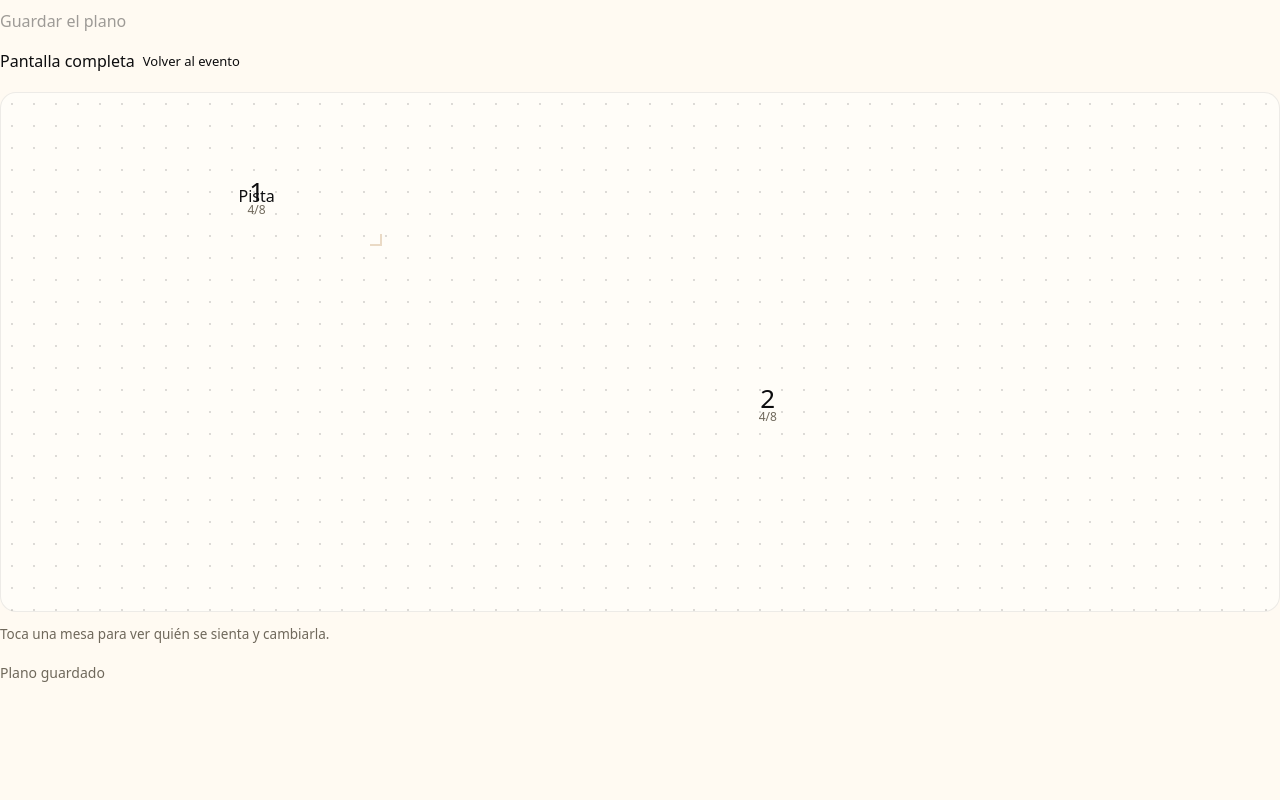
Test: FloorPlan › con cambios pendientes, salir de la vista abre el modal propio y no navega
Press the mouse on the button named "Mesa 01" at (257, 197), box [219,159,295,235]
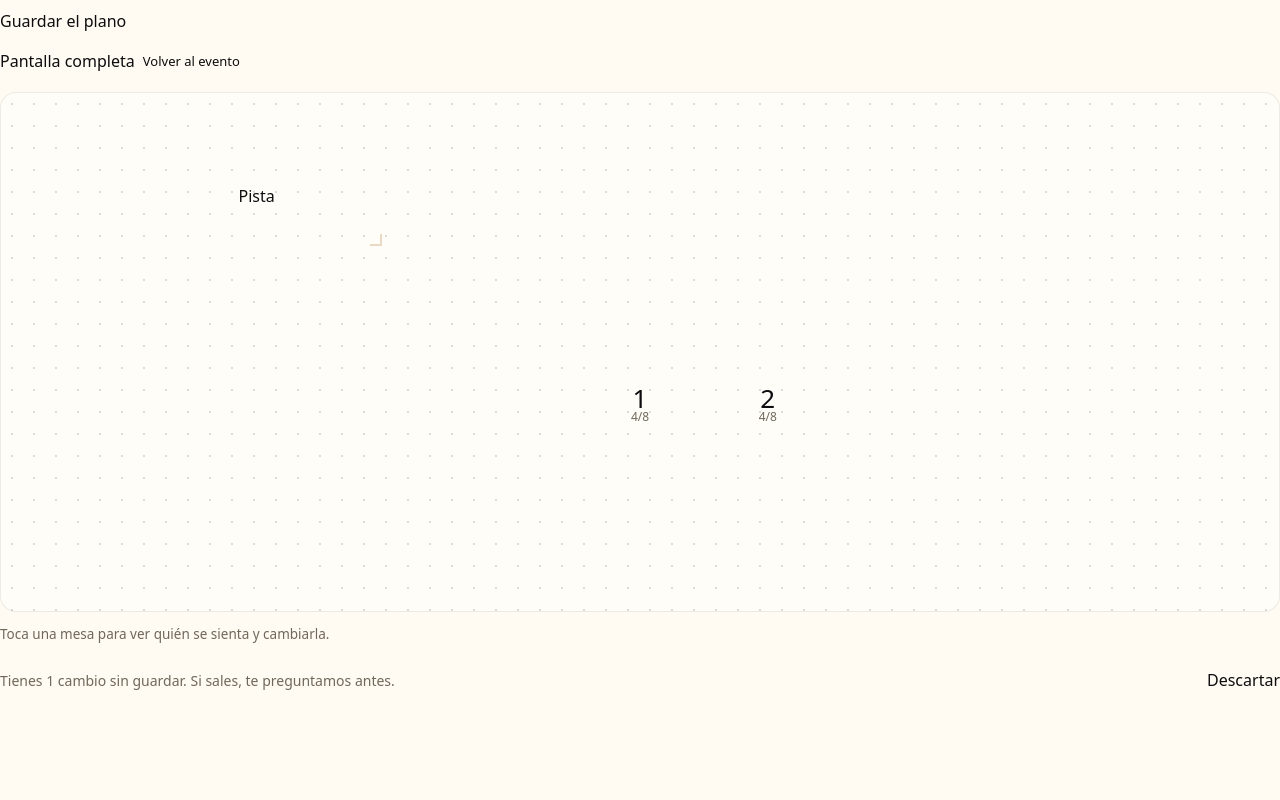
Click the link "Volver al evento". click: (191, 62)
box: [143,52,240,72]
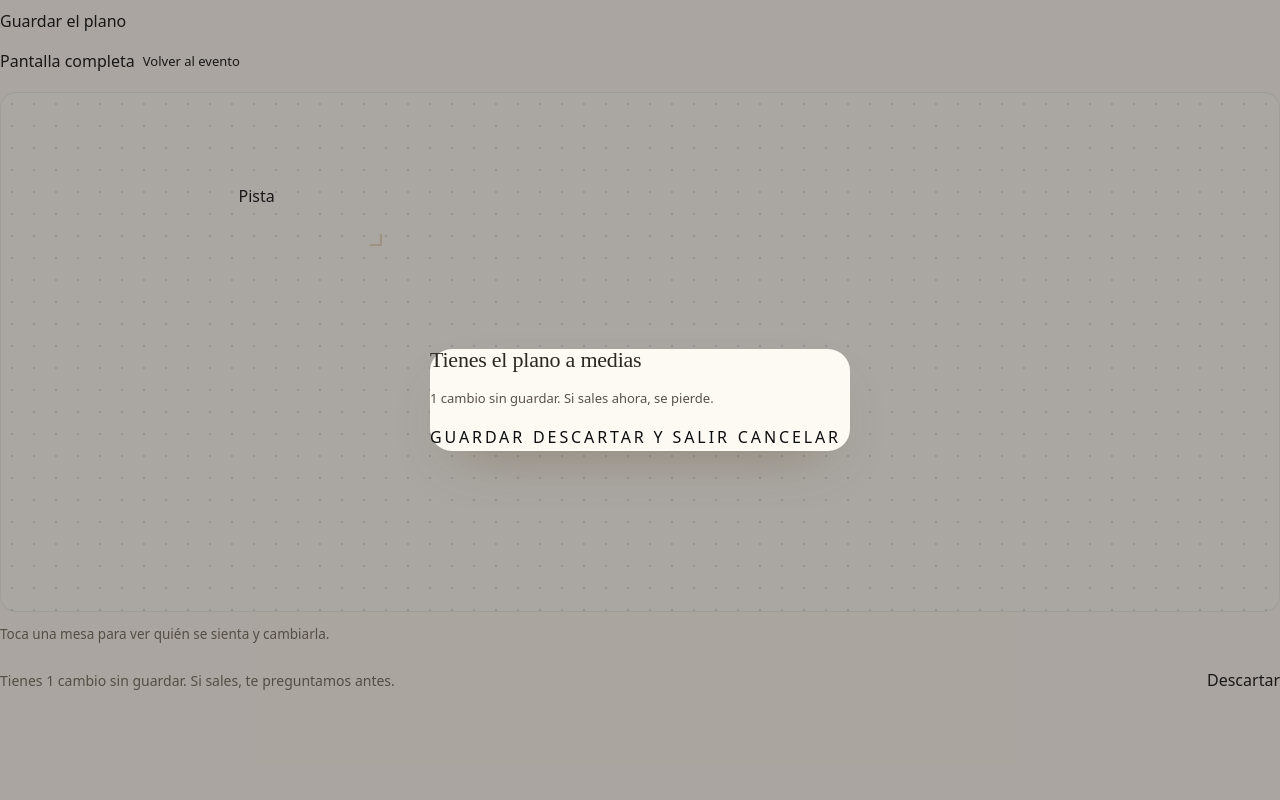
Result: the dialog is shown
